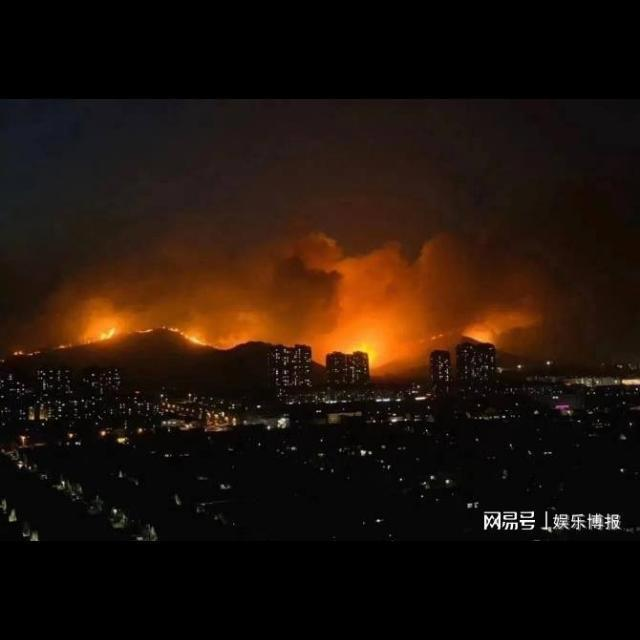Fire: (161, 324, 209, 350), (342, 344, 378, 368), (98, 328, 115, 340), (134, 326, 154, 334)
Smoke: (76, 228, 544, 376)
